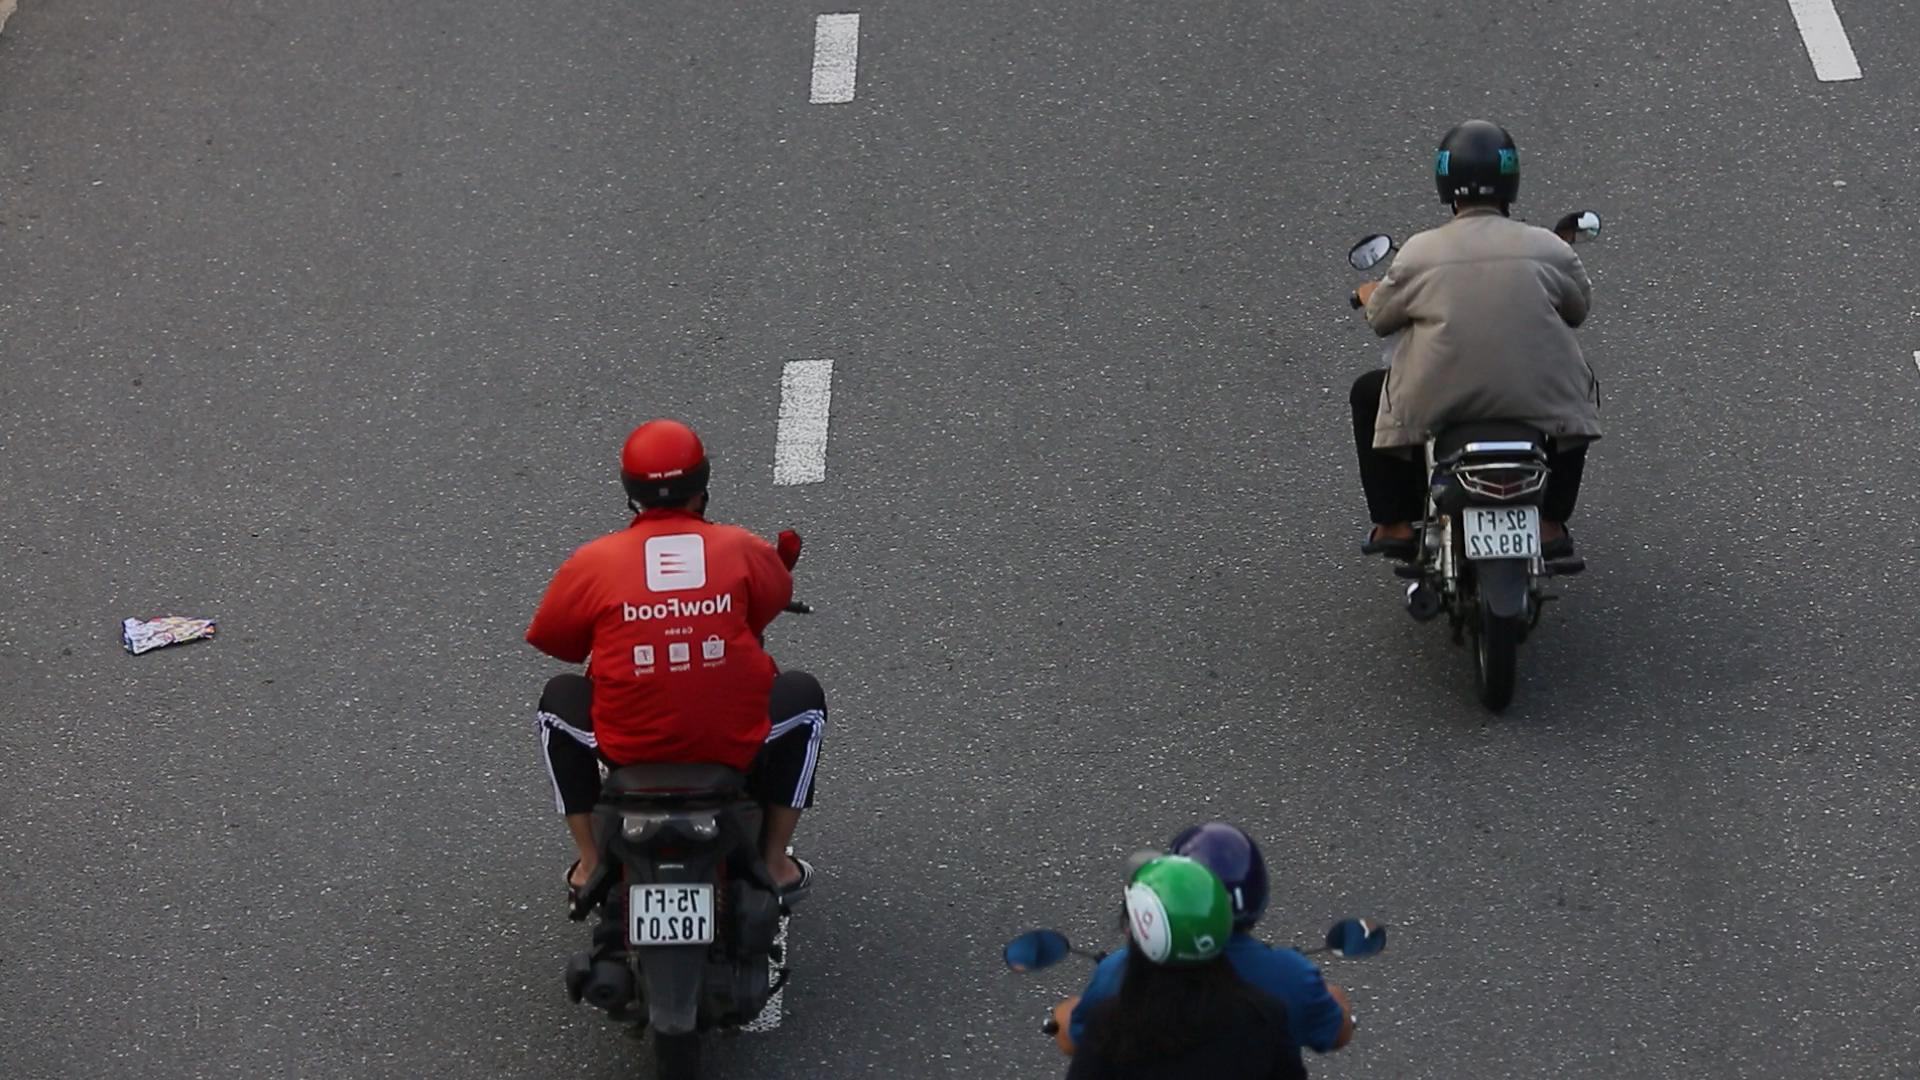motobike: (521, 414, 829, 1079), (1329, 111, 1630, 729)
